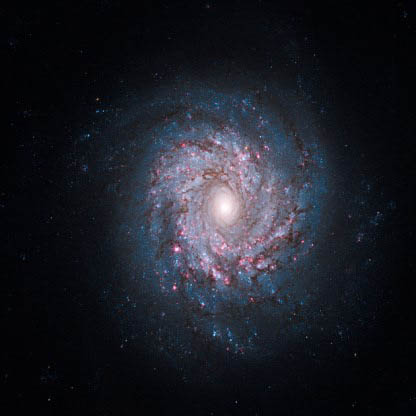NGC 3982: (95, 63, 349, 360)
